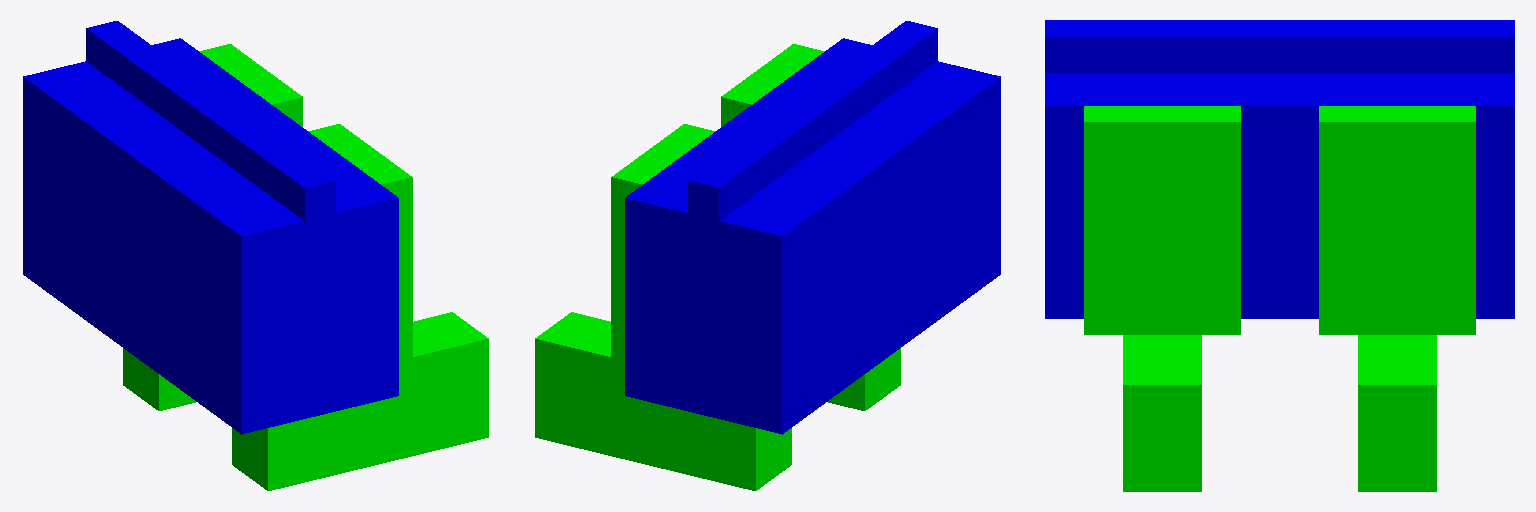
URDF robot description (robot):
<robot name = "robot">
    <link name="root">
        <inertial>
            <origin xyz="0.0 0.0 1.5" rpy="0 0 0"/>
            <mass value="1" />
            <inertia ixx="100" ixy="0" ixz="0" iyy="100" iyz="0" izz="100" />
        </inertial>
        <visual>
            <origin xyz="0.0 0.0 1.5" rpy="0 0 0"/>
            <geometry>
                <box size="0 0 0.0001" />
            </geometry>
            <material name="Green">
                <color rgba="0 1.0 0.0 1.0"/>
            </material>
        </visual>
        <collision>
            <origin xyz="0.0 0.0 1.5" rpy="0 0 0"/>
            <geometry>
                <box size="0 0 0.0001" />
            </geometry>
        </collision>
    </link>
    <joint name="root_000" type="revolute">
       <parent link="root"/>
       <child  link="000"/>
       <origin rpy="0 0 0" xyz="0.0 0.0 1.5" />
     <axis xyz="1 0 0"/>
       <limit effort="0.0" lower="-3.14159" upper="3.14159" velocity="0.0"/>
    </joint>
    <link name="000">
        <inertial>
            <origin xyz="0.0 0.3 0.0" rpy="0 0 0"/>
            <mass value="1" />
            <inertia ixx="100" ixy="0" ixz="0" iyy="100" iyz="0" izz="100" />
        </inertial>
        <visual>
            <origin xyz="0.0 0.3 0.0" rpy="0 0 0"/>
            <geometry>
                <box size="0.1 0.6 0.1" />
            </geometry>
            <material name="Blue">
                <color rgba="0 0.0 1.0 1.0"/>
            </material>
        </visual>
        <collision>
            <origin xyz="0.0 0.3 0.0" rpy="0 0 0"/>
            <geometry>
                <box size="0.1 0.6 0.1" />
            </geometry>
        </collision>
    </link>
    <joint name="000_010" type="revolute">
       <parent link="000"/>
       <child  link="010"/>
       <origin rpy="0 0 0" xyz="0.0 0.6 -0.0" />
     <axis xyz="0 1 0"/>
       <limit effort="0.0" lower="-3.14159" upper="3.14159" velocity="0.0"/>
    </joint>
    <link name="010">
        <inertial>
            <origin xyz="0.0 0.3 -0.0" rpy="0 0 0"/>
            <mass value="1" />
            <inertia ixx="100" ixy="0" ixz="0" iyy="100" iyz="0" izz="100" />
        </inertial>
        <visual>
            <origin xyz="0.0 0.3 -0.0" rpy="0 0 0"/>
            <geometry>
                <box size="0.1 0.6 0.1" />
            </geometry>
            <material name="Blue">
                <color rgba="0 0.0 1.0 1.0"/>
            </material>
        </visual>
        <collision>
            <origin xyz="0.0 0.3 -0.0" rpy="0 0 0"/>
            <geometry>
                <box size="0.1 0.6 0.1" />
            </geometry>
        </collision>
    </link>
    <joint name="010_010-100" type="revolute">
       <parent link="010"/>
       <child  link="010-100"/>
       <origin rpy="0 0 0" xyz="0.0 0.3 -0.05" />
     <axis xyz="0 0 1"/>
       <limit effort="0.0" lower="-3.14159" upper="3.14159" velocity="0.0"/>
    </joint>
    <link name="010-100">
        <inertial>
            <origin xyz="0.0 0.0 -0.3" rpy="0 0 0"/>
            <mass value="1" />
            <inertia ixx="100" ixy="0" ixz="0" iyy="100" iyz="0" izz="100" />
        </inertial>
        <visual>
            <origin xyz="0.0 0.0 -0.3" rpy="0 0 0"/>
            <geometry>
                <box size="0.5 0.6 0.6" />
            </geometry>
            <material name="Blue">
                <color rgba="0 0.0 1.0 1.0"/>
            </material>
        </visual>
        <collision>
            <origin xyz="0.0 0.0 -0.3" rpy="0 0 0"/>
            <geometry>
                <box size="0.5 0.6 0.6" />
            </geometry>
        </collision>
    </link>
    <joint name="010-100_010-100-200" type="revolute">
       <parent link="010-100"/>
       <child  link="010-100-200"/>
       <origin rpy="0 0 0" xyz="0.25 0.0 -0.3" />
     <axis xyz="1 0 0"/>
       <limit effort="0.0" lower="-3.14159" upper="3.14159" velocity="0.0"/>
    </joint>
    <link name="010-100-200">
        <inertial>
            <origin xyz="0.05 0.0 -0.0" rpy="0 0 0"/>
            <mass value="1" />
            <inertia ixx="100" ixy="0" ixz="0" iyy="100" iyz="0" izz="100" />
        </inertial>
        <visual>
            <origin xyz="0.05 0.0 -0.0" rpy="0 0 0"/>
            <geometry>
                <box size="0.1 0.4 0.6" />
            </geometry>
            <material name="Green">
                <color rgba="0 1.0 0.0 1.0"/>
            </material>
        </visual>
        <collision>
            <origin xyz="0.05 0.0 -0.0" rpy="0 0 0"/>
            <geometry>
                <box size="0.1 0.4 0.6" />
            </geometry>
        </collision>
    </link>
    <joint name="010-100-200_010-100-200-300" type="revolute">
       <parent link="010-100-200"/>
       <child  link="010-100-200-300"/>
       <origin rpy="0 0 0" xyz="0.05 0.0 -0.3" />
     <axis xyz="0 0 1"/>
       <limit effort="0.0" lower="-3.14159" upper="3.14159" velocity="0.0"/>
    </joint>
    <link name="010-100-200-300">
        <inertial>
            <origin xyz="0.0 0.0 -0.15" rpy="0 0 0"/>
            <mass value="1" />
            <inertia ixx="100" ixy="0" ixz="0" iyy="100" iyz="0" izz="100" />
        </inertial>
        <visual>
            <origin xyz="0.0 0.0 -0.15" rpy="0 0 0"/>
            <geometry>
                <box size="0.7 0.2 0.3" />
            </geometry>
            <material name="Green">
                <color rgba="0 1.0 0.0 1.0"/>
            </material>
        </visual>
        <collision>
            <origin xyz="0.0 0.0 -0.15" rpy="0 0 0"/>
            <geometry>
                <box size="0.7 0.2 0.3" />
            </geometry>
        </collision>
    </link>
    <joint name="000_000-100" type="revolute">
       <parent link="000"/>
       <child  link="000-100"/>
       <origin rpy="0 0 0" xyz="0.0 0.3 -0.05" />
     <axis xyz="0 0 1"/>
       <limit effort="0.0" lower="-3.14159" upper="3.14159" velocity="0.0"/>
    </joint>
    <link name="000-100">
        <inertial>
            <origin xyz="0.0 0.0 -0.3" rpy="0 0 0"/>
            <mass value="1" />
            <inertia ixx="100" ixy="0" ixz="0" iyy="100" iyz="0" izz="100" />
        </inertial>
        <visual>
            <origin xyz="0.0 0.0 -0.3" rpy="0 0 0"/>
            <geometry>
                <box size="0.5 0.6 0.6" />
            </geometry>
            <material name="Blue">
                <color rgba="0 0.0 1.0 1.0"/>
            </material>
        </visual>
        <collision>
            <origin xyz="0.0 0.0 -0.3" rpy="0 0 0"/>
            <geometry>
                <box size="0.5 0.6 0.6" />
            </geometry>
        </collision>
    </link>
    <joint name="000-100_000-100-200" type="revolute">
       <parent link="000-100"/>
       <child  link="000-100-200"/>
       <origin rpy="0 0 0" xyz="0.25 0.0 -0.3" />
     <axis xyz="1 0 0"/>
       <limit effort="0.0" lower="-3.14159" upper="3.14159" velocity="0.0"/>
    </joint>
    <link name="000-100-200">
        <inertial>
            <origin xyz="0.05 0.0 -0.0" rpy="0 0 0"/>
            <mass value="1" />
            <inertia ixx="100" ixy="0" ixz="0" iyy="100" iyz="0" izz="100" />
        </inertial>
        <visual>
            <origin xyz="0.05 0.0 -0.0" rpy="0 0 0"/>
            <geometry>
                <box size="0.1 0.4 0.6" />
            </geometry>
            <material name="Green">
                <color rgba="0 1.0 0.0 1.0"/>
            </material>
        </visual>
        <collision>
            <origin xyz="0.05 0.0 -0.0" rpy="0 0 0"/>
            <geometry>
                <box size="0.1 0.4 0.6" />
            </geometry>
        </collision>
    </link>
    <joint name="000-100-200_000-100-200-300" type="revolute">
       <parent link="000-100-200"/>
       <child  link="000-100-200-300"/>
       <origin rpy="0 0 0" xyz="0.05 0.0 -0.3" />
     <axis xyz="0 0 1"/>
       <limit effort="0.0" lower="-3.14159" upper="3.14159" velocity="0.0"/>
    </joint>
    <link name="000-100-200-300">
        <inertial>
            <origin xyz="0.0 0.0 -0.15" rpy="0 0 0"/>
            <mass value="1" />
            <inertia ixx="100" ixy="0" ixz="0" iyy="100" iyz="0" izz="100" />
        </inertial>
        <visual>
            <origin xyz="0.0 0.0 -0.15" rpy="0 0 0"/>
            <geometry>
                <box size="0.7 0.2 0.3" />
            </geometry>
            <material name="Green">
                <color rgba="0 1.0 0.0 1.0"/>
            </material>
        </visual>
        <collision>
            <origin xyz="0.0 0.0 -0.15" rpy="0 0 0"/>
            <geometry>
                <box size="0.7 0.2 0.3" />
            </geometry>
        </collision>
    </link>
</robot>

--- What the picture shows (computed from the rendered views, not written in the file) ---
3 views of the same robot in one strip: view 1: azimuth 30°, elevation 25°; view 2: azimuth 150°, elevation 25°; view 3: azimuth 270°, elevation 25° (orthographic).
Model robot with 9 links and 8 joints (8 revolute), rooted at root, posed all joints at 0.
Links seen in each view (by area): view 1: 000-100, 010-100, [phone redacted] (×4), 000, 010; view 2: 010-100, 000-100, [phone redacted] (×4), 010, 000; view 3: [phone redacted] (×4), 010-100, 000-100, 000, 010.
Link boxes in pixels (box(x1,y1,x2,y2)): 000-100: box(132, 118, 398, 434); 010-100: box(23, 38, 288, 353); [phone redacted] (×4): box(123, 44, 488, 490); 000: box(195, 101, 335, 220); 010: box(86, 21, 226, 140); 010-100: box(625, 118, 891, 434); 000-100: box(735, 38, 1000, 353); [phone redacted] (×4): box(535, 44, 900, 490); 010: box(688, 101, 828, 220); 000: box(797, 21, 937, 140); [phone redacted] (×4): box(1084, 106, 1475, 491); 010-100: box(1280, 73, 1514, 318); 000-100: box(1045, 73, 1279, 318); 000: box(1045, 20, 1279, 72); 010: box(1280, 20, 1514, 72).
Bounding box of the posed robot: 0.9 × 1.2 × 1 m (x, y, z).
Geometry: primitives only (box / cylinder / sphere), no mesh files.
